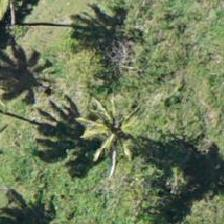coconut_tree: (18, 121, 108, 211), (0, 35, 61, 125)
